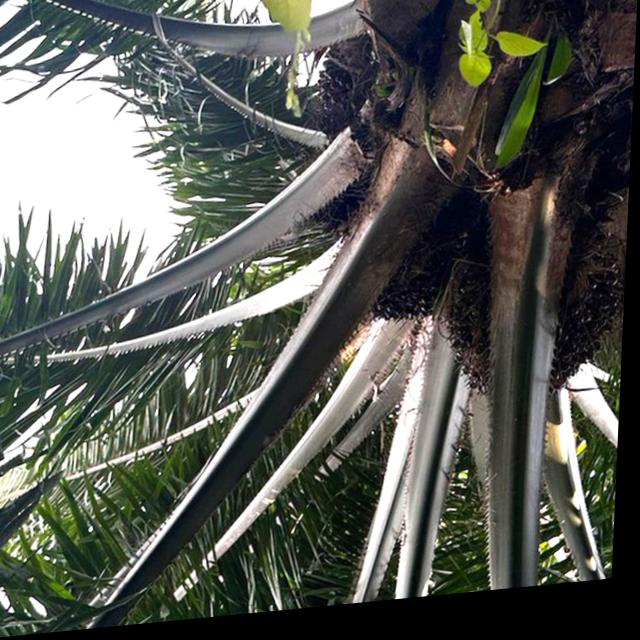almost: (445, 234, 629, 439), (347, 207, 480, 335), (310, 44, 398, 162)
